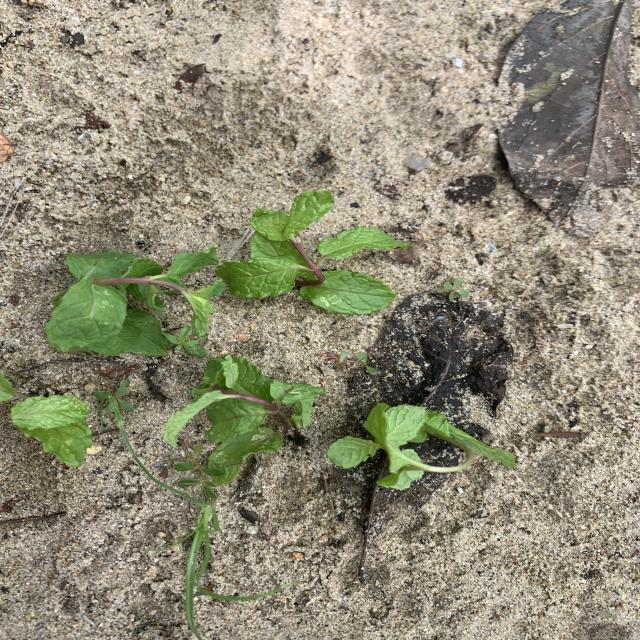crop: (217, 191, 406, 314), (165, 355, 319, 486), (45, 247, 226, 356), (328, 403, 516, 490), (0, 371, 92, 467)
weed: (109, 398, 284, 640), (175, 444, 222, 497), (321, 352, 379, 375), (94, 379, 131, 415), (164, 326, 207, 355), (437, 278, 467, 301)
